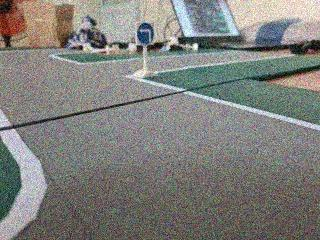left: (134, 22, 158, 45)
